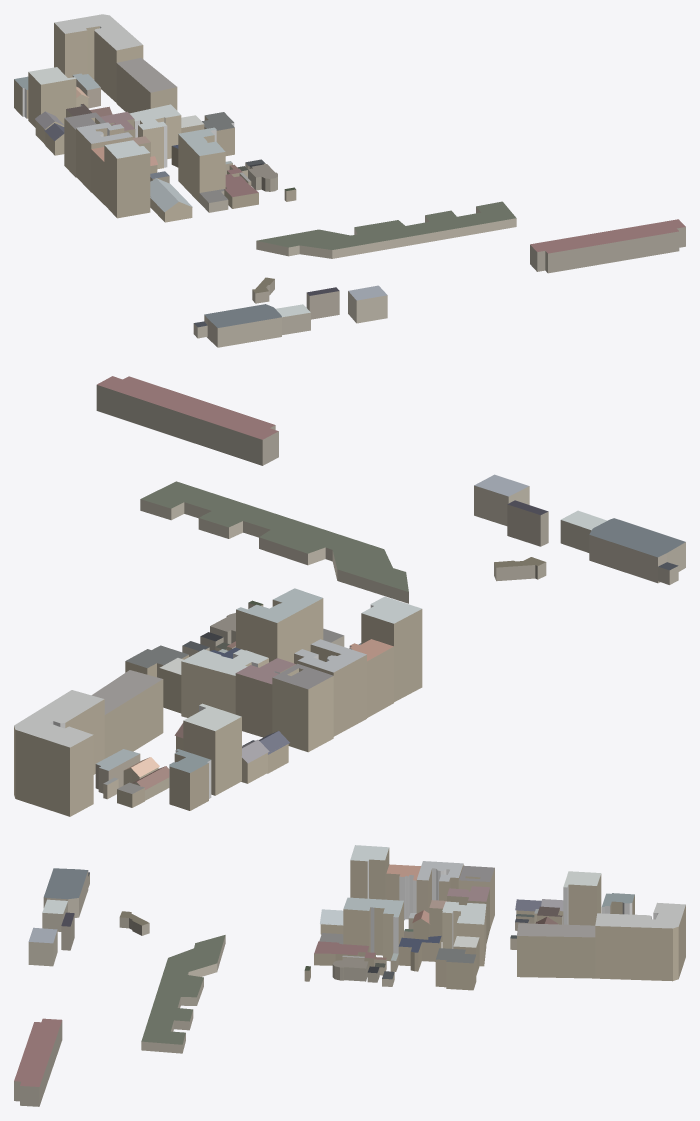
3 renders of one model, top to bottom at view 1: azimuth 30°, elevation 25°; view 2: azimuth 150°, elevation 25°; view 3: azimuth 270°, elevation 25°, orthographic. The views are drawn at different scales.
Visible parts, largest first — view 1: tuile; view 2: tuile; view 3: tuile.
Boxes of the visible parts, x1,y1,x2,y2 form: tuile: (14, 14, 685, 347); tuile: (14, 376, 685, 816); tuile: (14, 845, 685, 1106).
Bounding box in the file's own units: 216 × 30.19 × 272.
